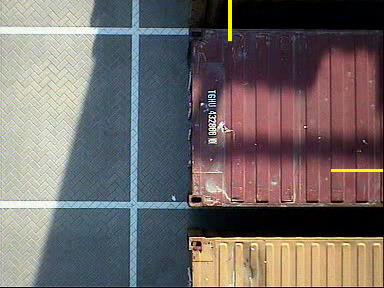groundmarker_2: (131, 18, 253, 116)
